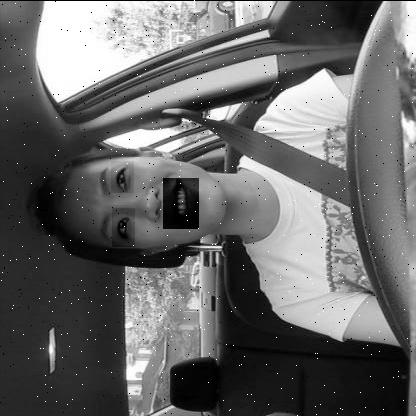seatbelt: (24, 127, 352, 271)
